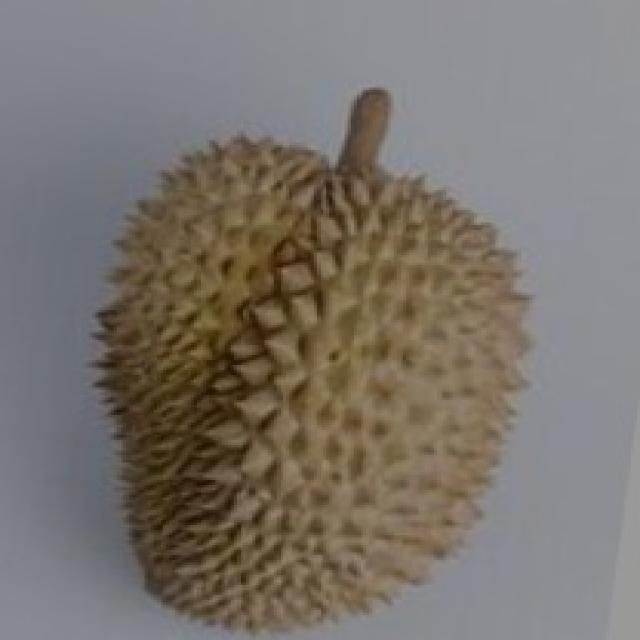fruit: (52, 260, 410, 640)
